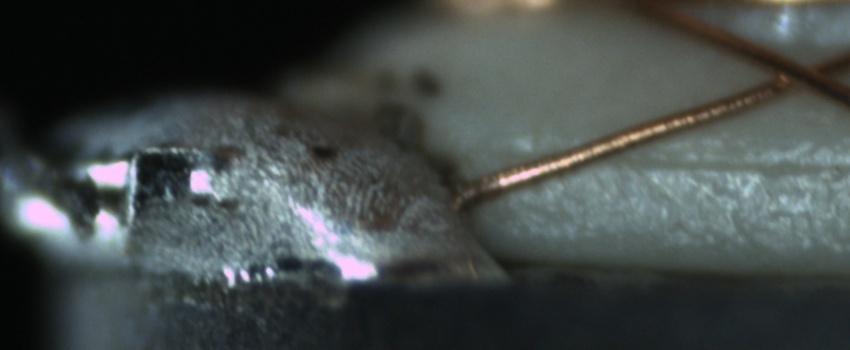CL: (749, 43, 841, 102)
DL: (543, 130, 850, 197)
